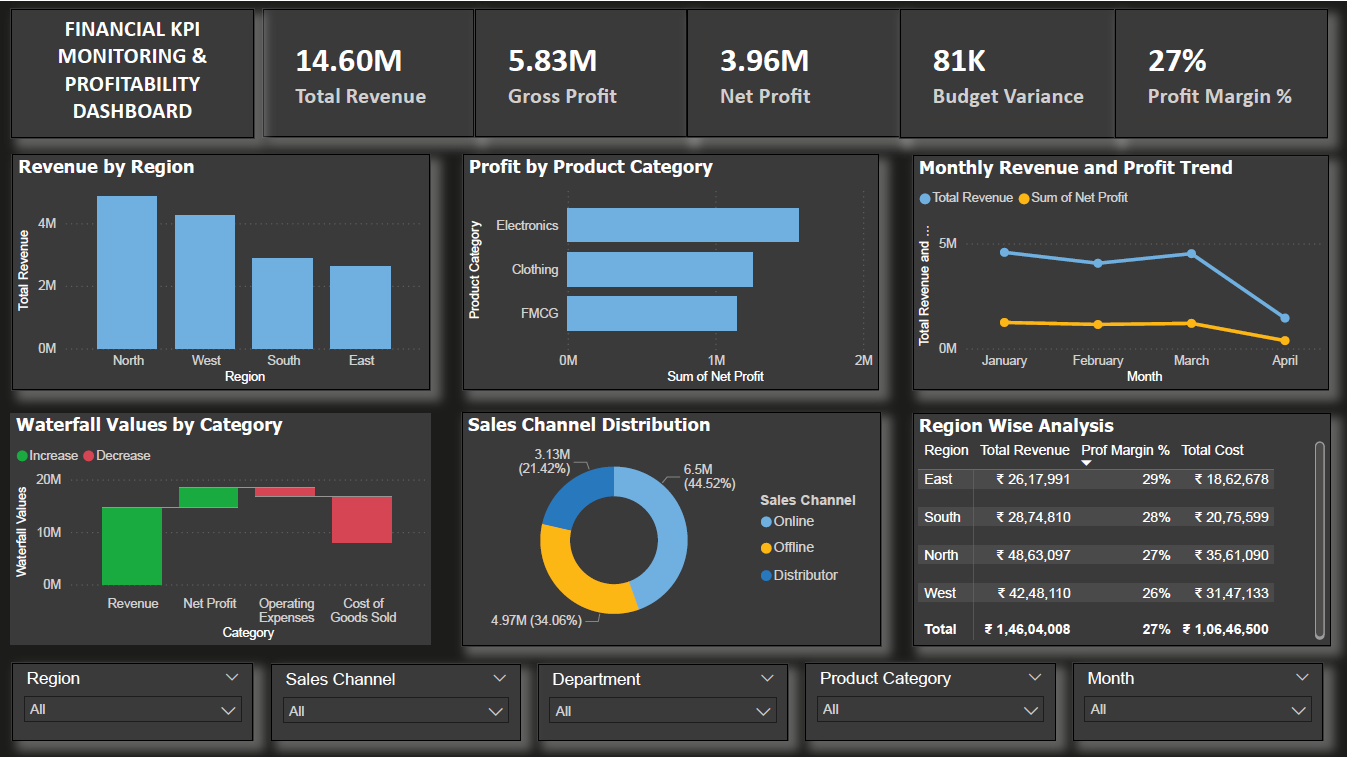

What the dashboard file says about the page in this screenshot:
{"tool":"powerbi","page":{"name":"Page 1","canvas":[1280,720],"ordinal":0},"visuals":[{"type":"cardVisual","fields":{"Data":["Financial_Data.Total Revenue"]},"box":[249.7,6.9,201.7,122],"z":0},{"type":"textbox","box":[11,6.9,230.5,123.5],"z":1000},{"type":"cardVisual","fields":{"Data":["Financial_Data.G Profit"]},"box":[451.7,6.9,201.7,122],"z":2000},{"type":"clusteredColumnChart","title":"Revenue by Region","fields":{"Category":["Financial_Data.Region"],"Y":["Financial_Data.Total Revenue"]},"box":[12.3,145.5,396.6,223.7],"z":3000},{"type":"cardVisual","fields":{"Data":["Financial_Data.N Profit"]},"box":[653.3,6.9,201.7,122],"z":4000},{"type":"barChart","title":"Profit by Product Category","fields":{"Category":["Financial_Data.Product Category"],"Y":["Sum(Financial_Data.Net Profit)"]},"box":[440.3,145.5,395.2,223.7],"z":5000},{"type":"cardVisual","fields":{"Data":["Financial_Data.Budget Var"]},"box":[855,6.9,204.4,123.5],"z":6000},{"type":"lineChart","title":"Monthly Revenue and Profit Trend","fields":{"Category":["Financial_Data.Date.Variation.Date Hierarchy.Month"],"Y":["Financial_Data.Total Revenue","Sum(Financial_Data.Net Profit)"]},"box":[866.8,145.9,394.8,223.1],"z":7000},{"type":"cardVisual","fields":{"Data":["Financial_Data.Prof Margin %"]},"box":[1059.4,6.9,201.7,123.5],"z":8000},{"type":"slicer","fields":{"Values":["Financial_Data.Region"]},"box":[12.3,628.5,229.2,74.1],"z":8000,"group":"g1"},{"type":"donutChart","title":"Sales Channel Distribution","fields":{"Category":["Financial_Data.Sales Channel"],"Y":["Financial_Data.Total Revenue"]},"box":[439,389.7,397.9,222.3],"z":9000},{"type":"slicer","fields":{"Values":["Financial_Data.Department"]},"box":[511.8,629.9,237.4,72.7],"z":9000,"group":"g1"},{"type":"pivotTable","title":"Region Wise Analysis","fields":{"Rows":["Financial_Data.Region"],"Values":["Financial_Data.Total Revenue","Financial_Data.Prof Margin %","Financial_Data.Total Cost"]},"box":[866.8,391.1,397.2,220.7],"z":10000},{"type":"slicer","fields":{"Values":["Financial_Data.Product Category"]},"box":[765.6,628.5,237.4,74.1],"z":10000,"group":"g1"},{"type":"group","id":"g1","title":"Group 2","box":[12.3,628.5,1244.6,74.1],"z":11000},{"type":"slicer","fields":{"Values":["Financial_Data.Sales Channel"]},"box":[257.9,629.9,237.4,72.7],"z":11000,"group":"g1"},{"type":"waterfallChart","fields":{"Y":["Financial_Data.Waterfall Values"],"Category":["Waterfall_Table.Category"]},"box":[11.4,390.6,397.7,220.9],"z":12000},{"type":"slicer","fields":{"Values":["Financial_Data.Month"]},"box":[1019.5,628.5,237.4,74.1],"z":12000,"group":"g1"}]}

Visuals, with their boxes in screenshot pixels (x1, y1, x2, y2), scaled from the page's 1280x720 canvas onto the 1347x757 screenshot:
cardVisual - Financial_Data.Total Revenue: (x1=263, y1=7, x2=475, y2=136)
textbox: (x1=12, y1=7, x2=254, y2=137)
cardVisual - Financial_Data.G Profit: (x1=475, y1=7, x2=688, y2=136)
"Revenue by Region" clusteredColumnChart: (x1=13, y1=153, x2=430, y2=388)
cardVisual - Financial_Data.N Profit: (x1=687, y1=7, x2=900, y2=136)
"Profit by Product Category" barChart: (x1=463, y1=153, x2=879, y2=388)
cardVisual - Financial_Data.Budget Var: (x1=900, y1=7, x2=1115, y2=137)
"Monthly Revenue and Profit Trend" lineChart: (x1=912, y1=153, x2=1328, y2=388)
cardVisual - Financial_Data.Prof Margin %: (x1=1115, y1=7, x2=1327, y2=137)
slicer - Financial_Data.Region: (x1=13, y1=661, x2=254, y2=739)
"Sales Channel Distribution" donutChart: (x1=462, y1=410, x2=881, y2=643)
slicer - Financial_Data.Department: (x1=539, y1=662, x2=788, y2=739)
"Region Wise Analysis" pivotTable: (x1=912, y1=411, x2=1330, y2=643)
slicer - Financial_Data.Product Category: (x1=806, y1=661, x2=1056, y2=739)
"Group 2" group: (x1=13, y1=661, x2=1323, y2=739)
slicer - Financial_Data.Sales Channel: (x1=271, y1=662, x2=521, y2=739)
waterfallChart - Financial_Data.Waterfall Values x Waterfall_Table.Category: (x1=12, y1=411, x2=431, y2=643)
slicer - Financial_Data.Month: (x1=1073, y1=661, x2=1323, y2=739)
